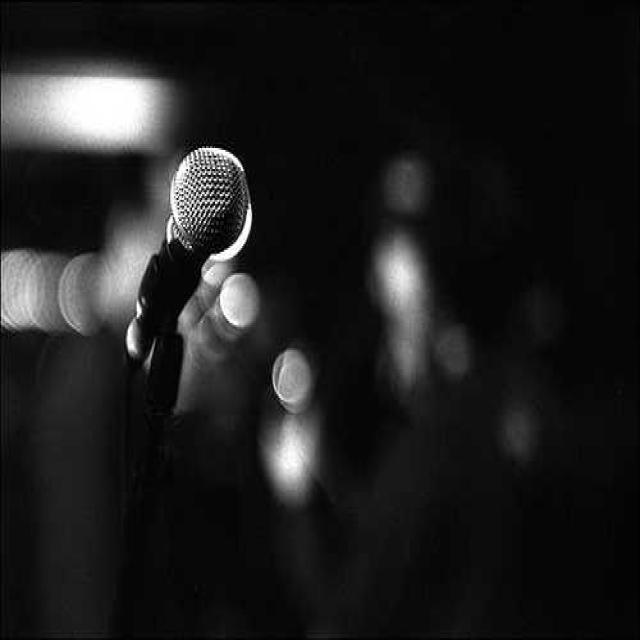microphone: (123, 138, 256, 408)
